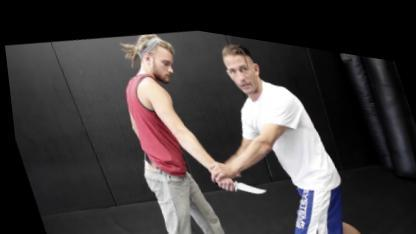knife: (206, 161, 266, 199)
